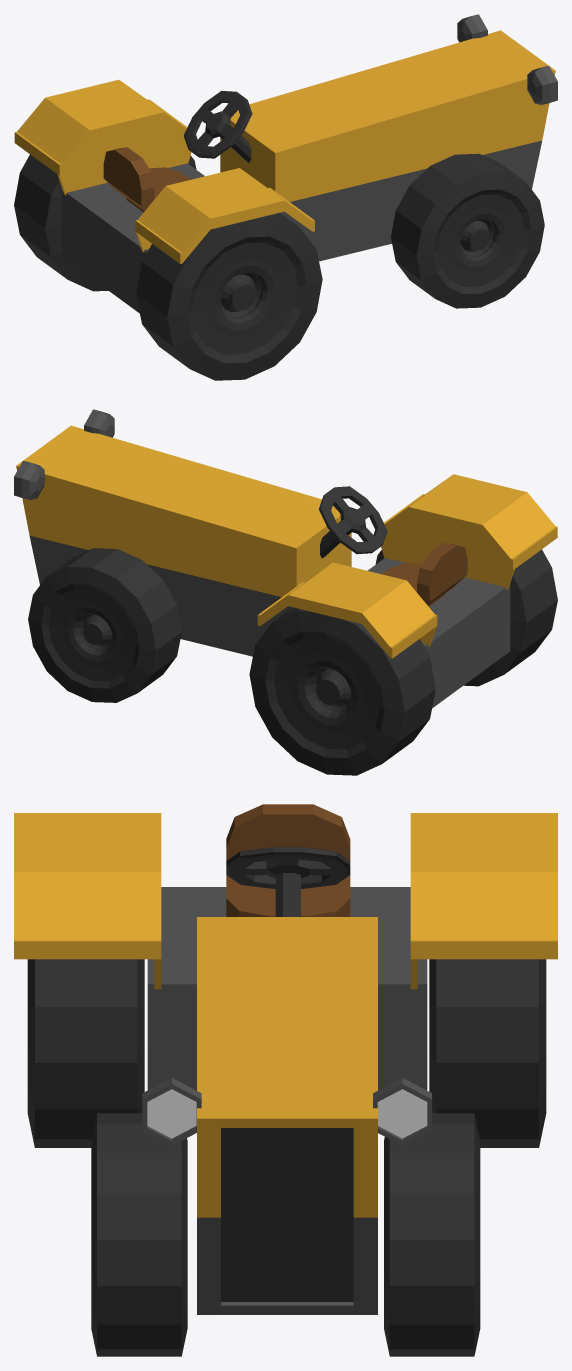
The picture shows the model from 3 angles, top to bottom: view 1: azimuth 30°, elevation 25°; view 2: azimuth 150°, elevation 25°; view 3: azimuth 270°, elevation 25°; orthographic projection. The views are drawn at different scales.
Parts seen in each view (by area): view 1: C-9, Cylinder.102, Cylinder.103, Cylinder.100, Cube.504; view 2: C-9, Cylinder.100, Cylinder.101, Cylinder.102, Cube.504; view 3: C-9, Cylinder.103, Cylinder.101, Cylinder.100, Cylinder.102, Cube.504.
Boxes of the visible parts, x1,y1,x2,y2 form: C-9: [14, 14, 557, 313]; Cylinder.102: [136, 213, 322, 380]; Cylinder.103: [391, 153, 544, 308]; Cylinder.100: [14, 154, 196, 291]; Cube.504: [183, 90, 252, 162]; C-9: [14, 409, 557, 708]; Cylinder.100: [249, 607, 435, 775]; Cylinder.101: [28, 548, 181, 702]; Cylinder.102: [375, 549, 557, 686]; Cube.504: [319, 486, 387, 558]; C-9: [14, 804, 557, 1314]; Cylinder.103: [91, 1113, 187, 1356]; Cylinder.101: [384, 1113, 480, 1356]; Cylinder.100: [429, 959, 546, 1147]; Cylinder.102: [27, 959, 144, 1147]; Cube.504: [226, 847, 350, 916].
Bounding box in the file's own units: 1276 × 597 × 835.
